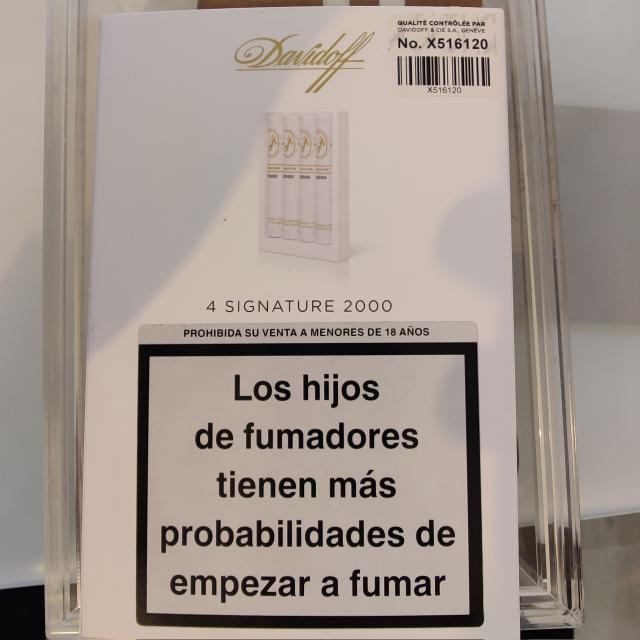Davidoff: (234, 32, 375, 93)
